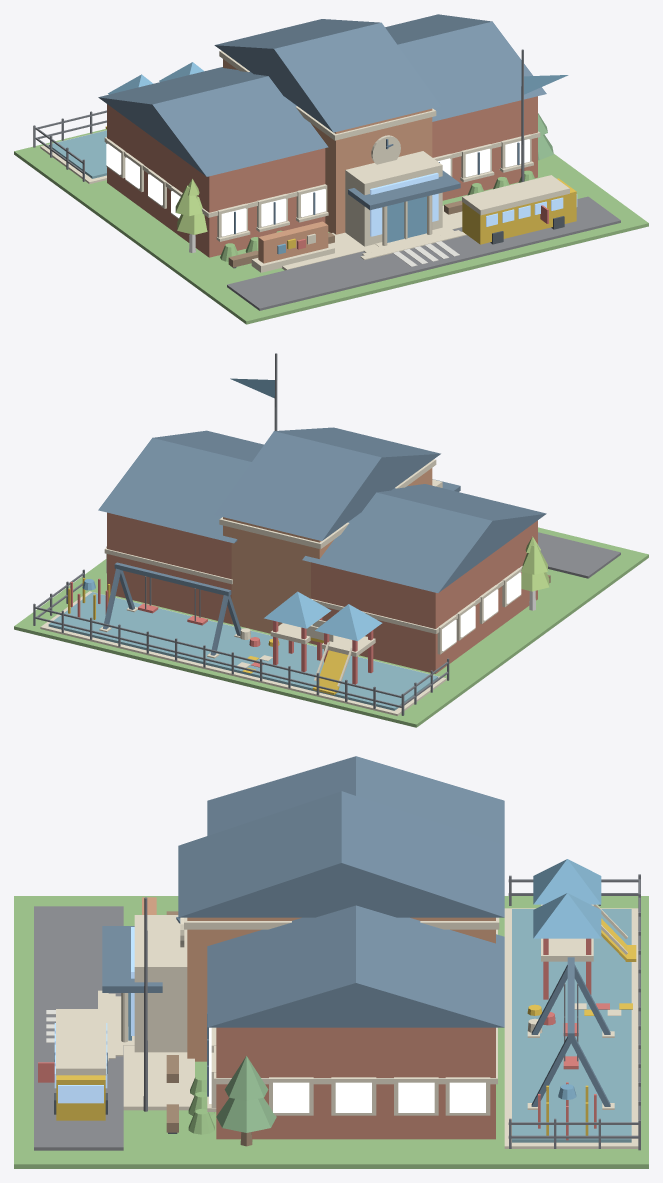
File: elementary-school.glb
3 views of the same model, one above another, from view 1: azimuth 30°, elevation 25°; view 2: azimuth 150°, elevation 25°; view 3: azimuth 270°, elevation 25° (orthographic). The views are drawn at different scales.
Visible parts, largest first — view 1: school_lawn.001, school_center_roof.001, school_wing_roof.002, school_classroom_wing.002, school_wing_roof.003, school_bus_loop.001, school_classroom_wing.003, school_center_hall.001, school_entry.001, school_bus_body.001, school_bus_roof.001, school_sign_face.001 (+17 smaller); view 2: school_center_roof.001, school_wing_roof.002, school_lawn.001, school_classroom_wing.002, school_play_mat.001, school_wing_roof.003, school_classroom_wing.003, school_center_hall.001, school_play_border.001, school_bus_loop.001, school_play_roof.002, school_play_roof.003 (+9 smaller); view 3: school_center_roof.001, school_wing_roof.003, school_lawn.001, school_classroom_wing.003, school_play_mat.001, school_bus_loop.001, school_wing_roof.002, school_entry.001, school_play_border.001, school_center_hall.001, school_front_walk.001, school_bus_roof.001 (+21 smaller).
Part boxes in pixels (<box>): school_lawn.001: <box>14,129,648,324</box>; school_center_roof.001: <box>214,19,440,132</box>; school_wing_roof.002: <box>98,67,328,176</box>; school_classroom_wing.002: <box>107,104,325,257</box>; school_wing_roof.003: <box>385,14,546,121</box>; school_bus_loop.001: <box>227,196,620,310</box>; school_classroom_wing.003: <box>432,96,537,200</box>; school_center_hall.001: <box>223,59,432,234</box>; school_entry.001: <box>345,151,442,246</box>; school_bus_body.001: <box>462,178,576,244</box>; school_bus_roof.001: <box>462,175,569,215</box>; school_sign_face.001: <box>258,221,328,263</box>; school_center_roof.001: <box>214,427,440,540</box>; school_wing_roof.002: <box>302,484,546,592</box>; school_lawn.001: <box>14,527,648,727</box>; school_classroom_wing.002: <box>311,520,537,673</box>; school_play_mat.001: <box>48,592,438,710</box>; school_wing_roof.003: <box>98,430,263,543</box>; school_classroom_wing.003: <box>107,512,231,624</box>; school_center_hall.001: <box>223,468,432,643</box>; school_play_border.001: <box>40,591,446,715</box>; school_bus_loop.001: <box>538,532,620,578</box>; school_play_roof.002: <box>315,604,382,641</box>; school_play_roof.003: <box>264,591,331,628</box>; school_center_roof.001: <box>178,791,504,917</box>; school_wing_roof.003: <box>207,905,504,1027</box>; school_lawn.001: <box>14,896,648,1168</box>; school_classroom_wing.003: <box>216,1027,495,1139</box>; school_play_mat.001: <box>512,909,631,1142</box>; school_bus_loop.001: <box>34,906,123,1150</box>; school_wing_roof.002: <box>207,756,504,845</box>; school_entry.001: <box>134,915,187,1052</box>; school_play_border.001: <box>504,908,638,1148</box>; school_center_hall.001: <box>187,917,495,1061</box>; school_front_walk.001: <box>123,1045,194,1110</box>; school_bus_roof.001: <box>56,1009,106,1075</box>.
Size of the model in its own units: 28.4 by 10.8 by 28.4.
